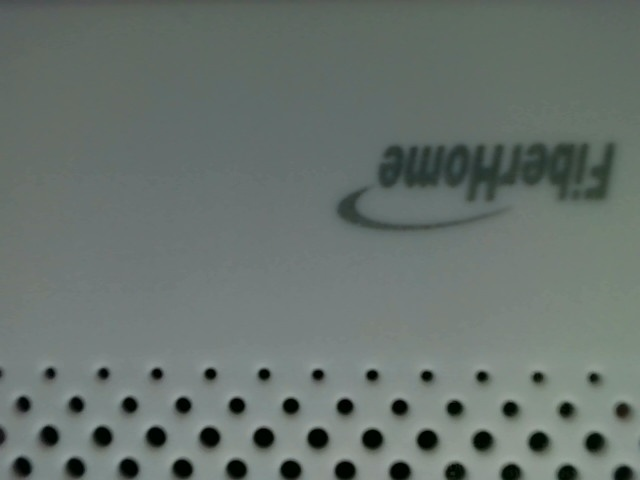AI_FiberHome: (320, 126, 626, 236)
